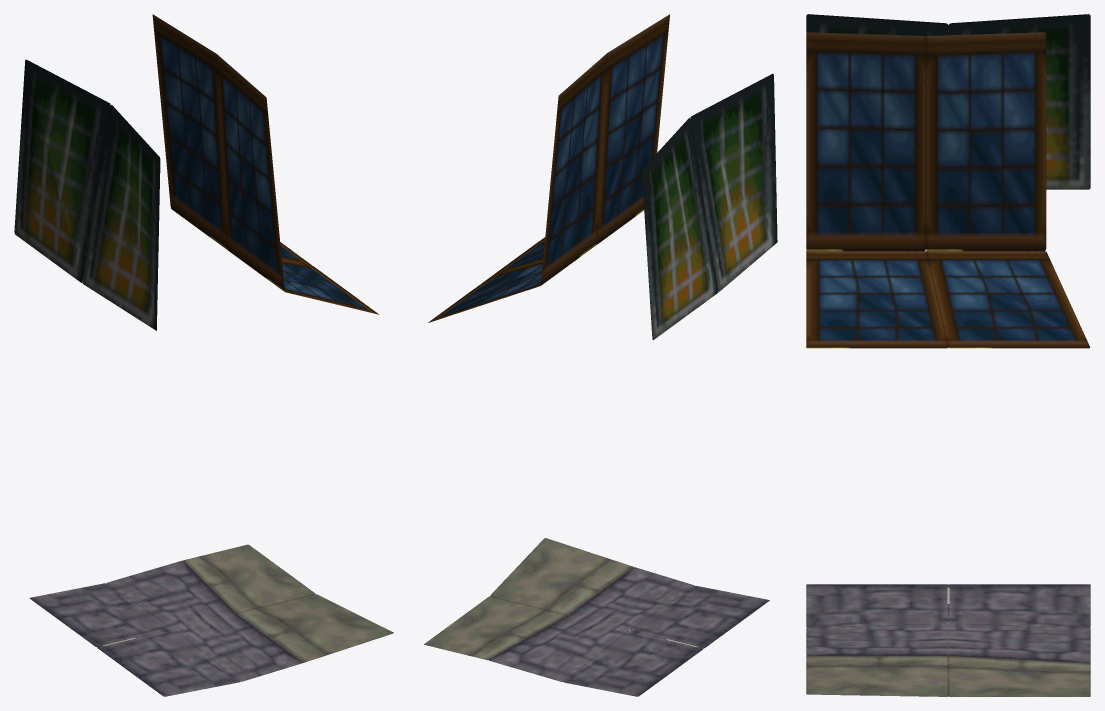
3 views of the same model, side by side, from view 1: azimuth 30°, elevation 25°; view 2: azimuth 150°, elevation 25°; view 3: azimuth 270°, elevation 25° (orthographic). The views are drawn at different scales.
Parts seen in each view (by area): view 1: T1I0M002_0; view 2: T1I0M002_0; view 3: T1I0M002_0.
Boxes of the visible parts, x1,y1,x2,y2 form: T1I0M002_0: [14, 14, 393, 696]; T1I0M002_0: [424, 14, 777, 696]; T1I0M002_0: [806, 14, 1090, 696].
Size of the model in its own units: 4.19 by 9.44 by 4.
